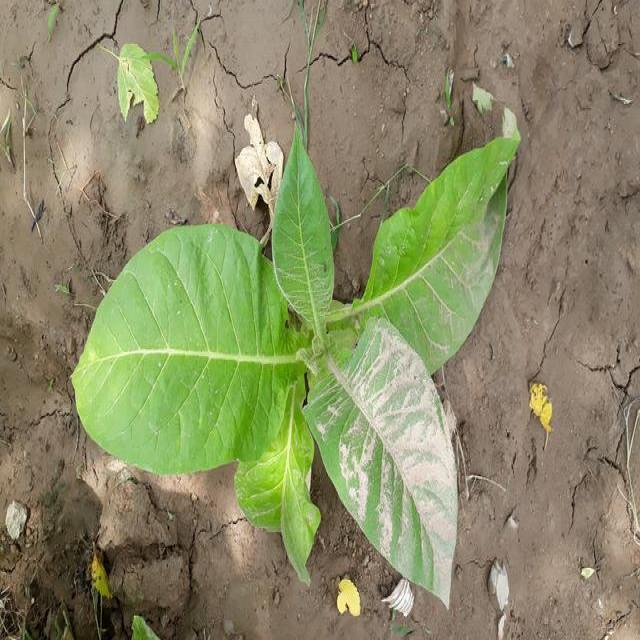crop: (88, 148, 516, 608)
